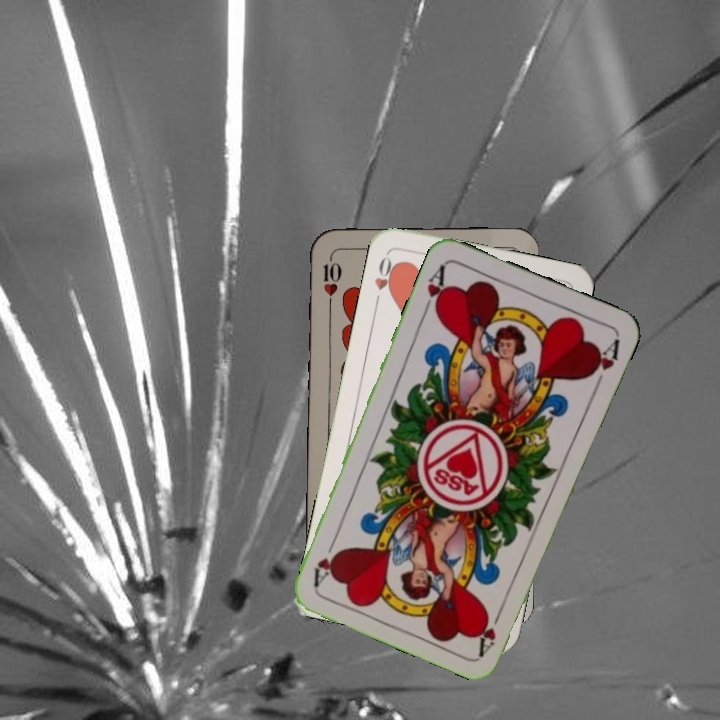H10: (319, 250, 344, 309)
HA: (418, 260, 450, 317), (475, 601, 507, 657)
HO: (370, 249, 400, 308)
